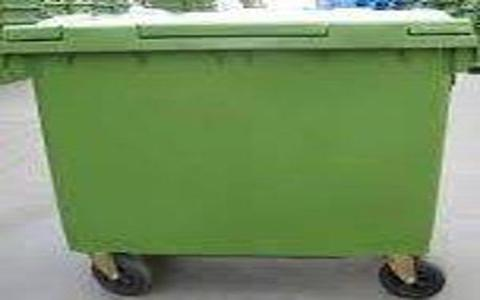Proper garbage: (1, 1, 471, 290)
